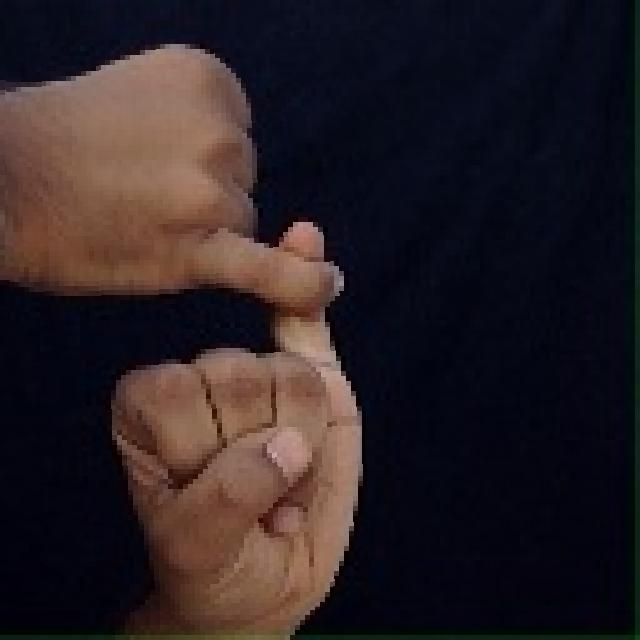S: (8, 32, 367, 613)
